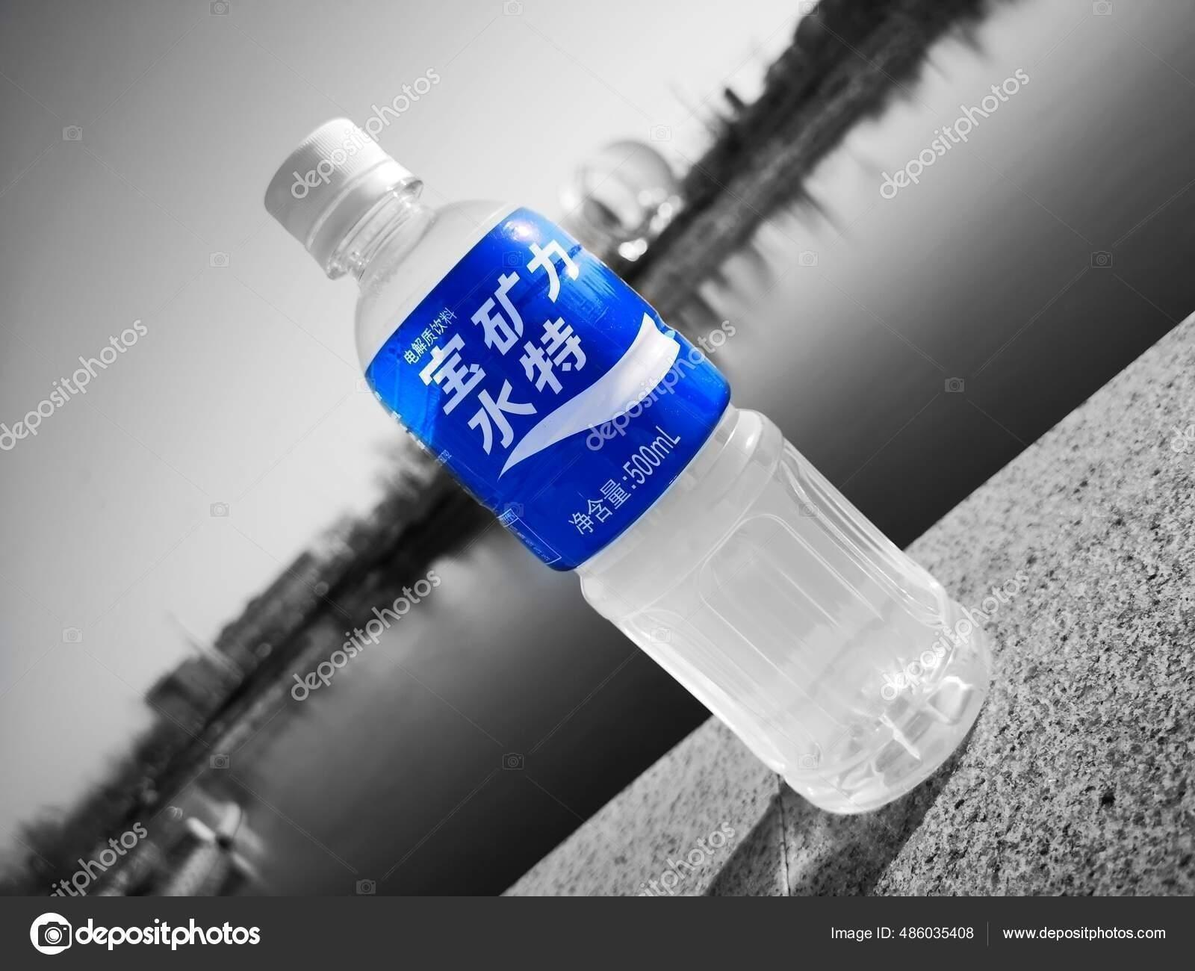bottle-plastic: (262, 114, 999, 828)
